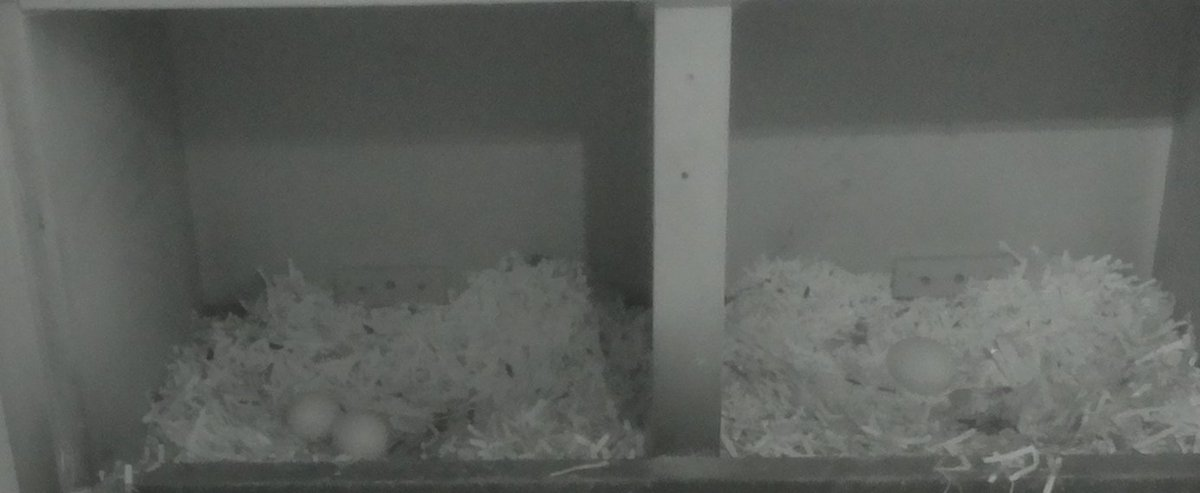egg: (884, 333, 967, 403), (325, 406, 403, 462), (280, 388, 343, 450)
